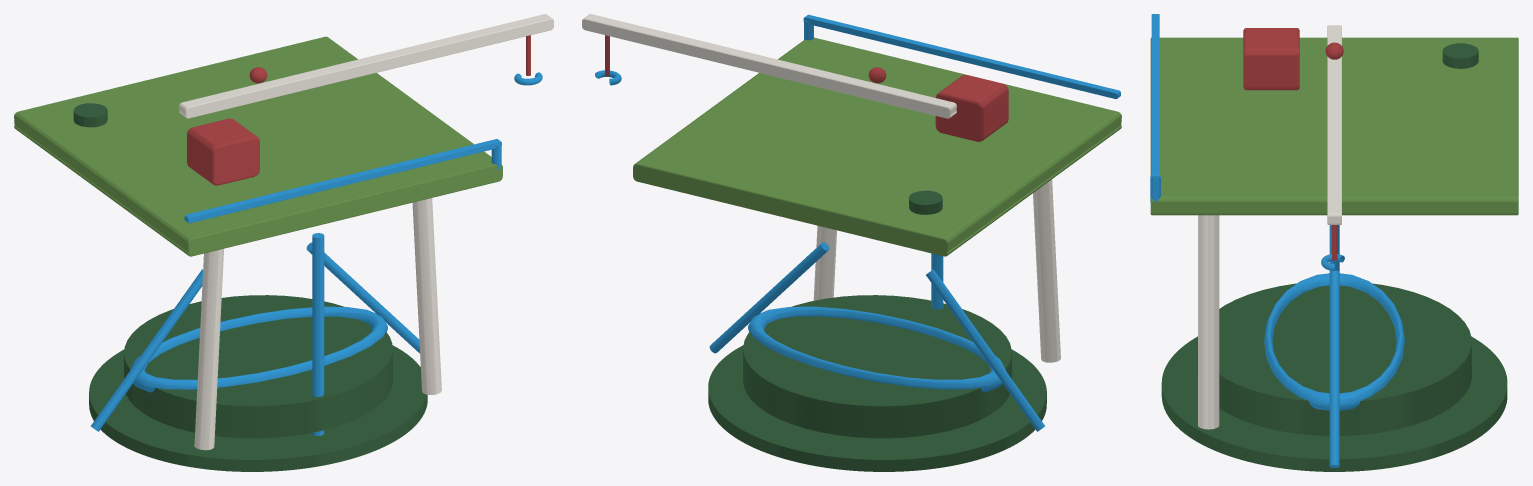
File: 0582_伟大的发明图鉴_第一台雷达装置.glb
3 renders of one model, left to right at view 1: azimuth 30°, elevation 25°; view 2: azimuth 150°, elevation 25°; view 3: azimuth 270°, elevation 25°, orthographic. The views are drawn at different scales.
Visible parts, largest first — view 1: card_0582; view 2: card_0582; view 3: card_0582.
Boxes of the visible parts, x1,y1,x2,y2 form: card_0582: (14, 14, 553, 471); card_0582: (582, 14, 1121, 471); card_0582: (1150, 14, 1518, 471).
Size of the model in its own units: 1.4 by 1 by 0.9211.
